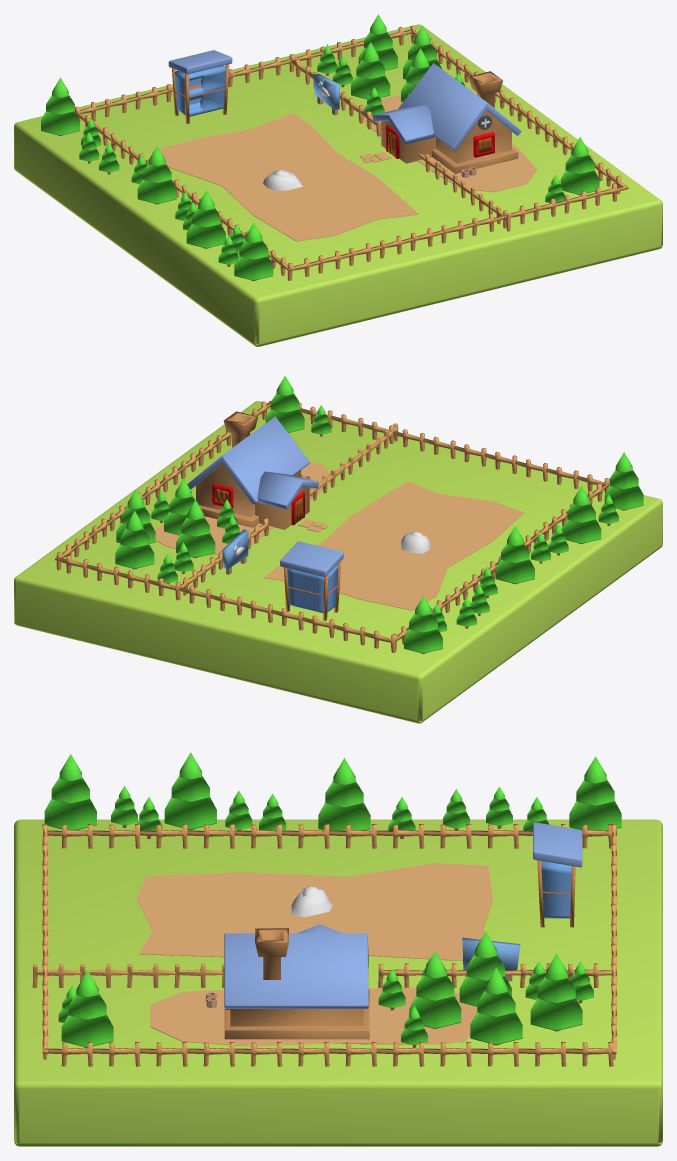
The model's file is complete scene 1.fbx.
3 views of the same model, one above another, from view 1: azimuth 30°, elevation 25°; view 2: azimuth 150°, elevation 25°; view 3: azimuth 270°, elevation 25° (orthographic). The views are drawn at different scales.
Parts seen in each view (by area): view 1: Plane.003, Plane.006, Plane.007, Cube.031, Cube.023, Plane.008, Cube.022, Cube.024, Cone.036, Cone.034, Cone.035, Cone.037 (+11 smaller); view 2: Plane.003, Plane.006, Plane.007, Cube.031, Cube.022, Cube.023, Cube.024, Cube.025, Cone.024, Cone.036, Cone.037, Cone.035 (+11 smaller); view 3: Plane.003, Plane.006, Plane.007, Plane.008, Cube.024, Cube.025, Cube.031, Cone.024, Cone.025, Cone.035, Cone.032, Cone.034 (+19 smaller).
Boxes of the visible parts, <box> form: Plane.003: <box>14,24,662,346</box>; Plane.006: <box>152,113,418,241</box>; Plane.007: <box>359,63,521,177</box>; Cube.031: <box>168,50,232,123</box>; Cube.023: <box>287,183,628,280</box>; Plane.008: <box>363,95,537,192</box>; Cube.022: <box>75,27,411,120</box>; Cube.024: <box>410,25,626,194</box>; Cone.036: <box>137,146,176,204</box>; Cone.034: <box>234,222,273,281</box>; Cone.035: <box>186,190,225,248</box>; Cone.037: <box>41,77,79,135</box>; Plane.003: <box>14,401,662,723</box>; Plane.006: <box>263,481,523,610</box>; Plane.007: <box>187,416,328,532</box>; Cube.031: <box>280,541,343,620</box>; Cube.022: <box>55,555,395,652</box>; Cube.023: <box>269,400,609,493</box>; Cube.024: <box>56,401,270,570</box>; Cube.025: <box>394,483,608,650</box>; Cone.024: <box>115,511,154,569</box>; Cone.036: <box>495,526,534,584</box>; Cone.037: <box>404,595,442,653</box>; Cone.035: <box>562,486,601,544</box>; Plane.003: <box>14,819,662,1146</box>; Plane.006: <box>136,863,492,960</box>; Plane.007: <box>206,924,369,1039</box>; Plane.008: <box>150,987,477,1046</box>; Cube.024: <box>44,1042,613,1066</box>; Cube.025: <box>47,824,613,848</box>; Cube.031: <box>533,822,582,927</box>; Cone.024: <box>530,953,582,1031</box>; Cone.025: <box>470,967,522,1045</box>; Cone.035: <box>164,752,216,830</box>; Cone.032: <box>61,970,113,1048</box>; Cone.034: <box>44,754,96,830</box>.
Size of what is drawn, in the model's own units: 4594 by 1281 by 4710.
